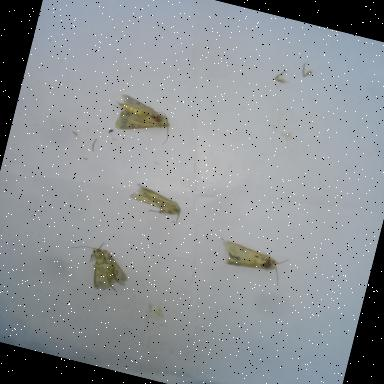abw: (56, 230, 144, 301), (204, 230, 298, 294), (102, 86, 187, 151), (119, 175, 190, 228)
